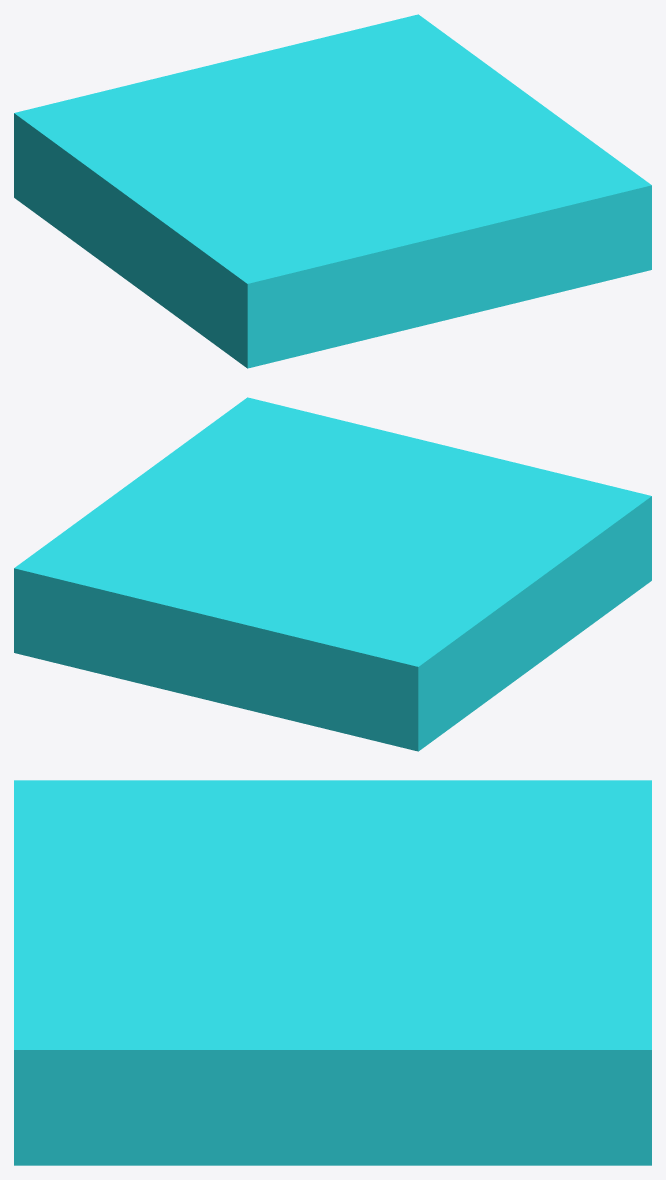
File: WaterBlockFilled_2.fbx
3 renders of one model, top to bottom at view 1: azimuth 30°, elevation 25°; view 2: azimuth 150°, elevation 25°; view 3: azimuth 270°, elevation 25°, orthographic. The views are drawn at different scales.
Visible parts, largest first — view 1: WaterBlockFilled_2; view 2: WaterBlockFilled_2; view 3: WaterBlockFilled_2.
Part boxes in pixels (x1,y1,x2,y2): WaterBlockFilled_2: [14, 14, 651, 368]; WaterBlockFilled_2: [14, 397, 651, 751]; WaterBlockFilled_2: [14, 780, 651, 1165].
Bounding box in the file's own units: 1 × 0.2 × 1.
1 material, 1 textured.
